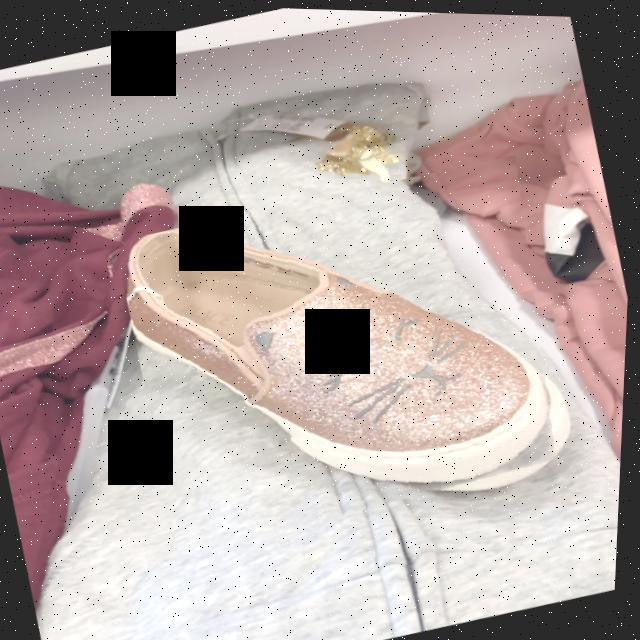shoe: (130, 227, 558, 485)
